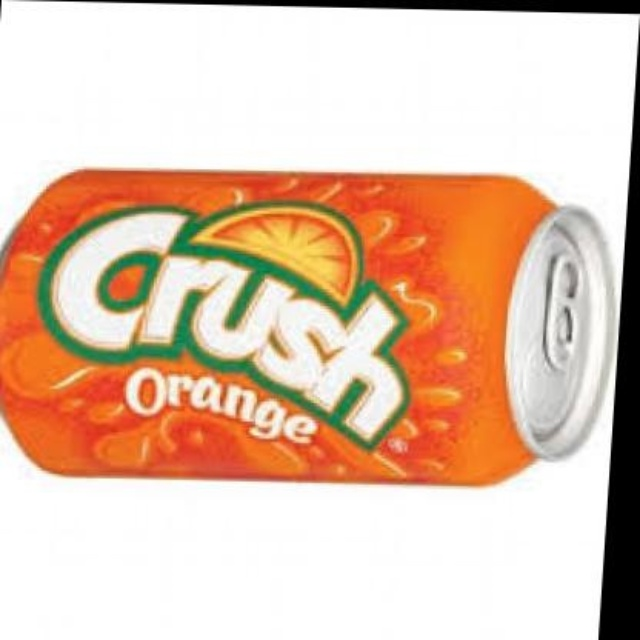trash: (0, 171, 582, 483)
